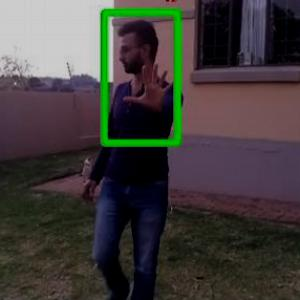follow_hand: (122, 58, 177, 112)
